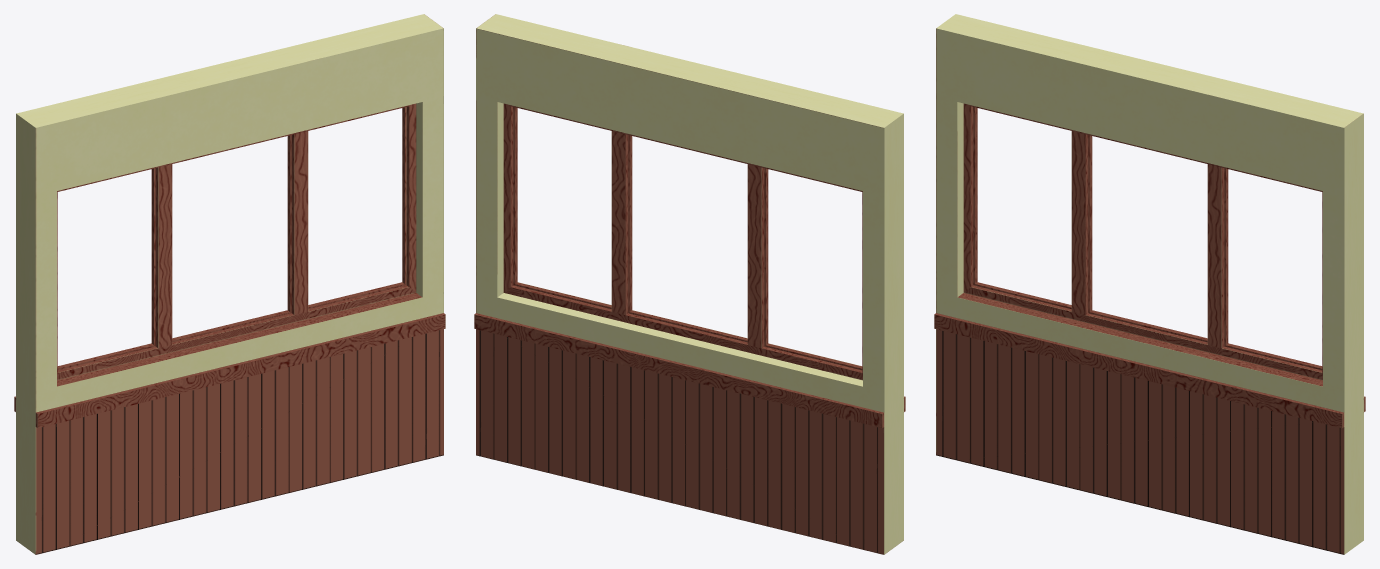
Rendered from BigWindow.fbx.
3 renders of one model, left to right at view 1: azimuth 30°, elevation 25°; view 2: azimuth 150°, elevation 25°; view 3: azimuth 330°, elevation 25°, orthographic.
Visible parts, largest first — view 1: BigWindow; view 2: BigWindow; view 3: BigWindow.
Boxes of the visible parts, left/top/right/bottom form: BigWindow: left=14, top=14, right=445, bottom=554; BigWindow: left=474, top=14, right=905, bottom=554; BigWindow: left=934, top=14, right=1365, bottom=554.
Bounding box in the file's own units: 300 × 300 × 30.
Materials: 1 (1 with a texture image).
